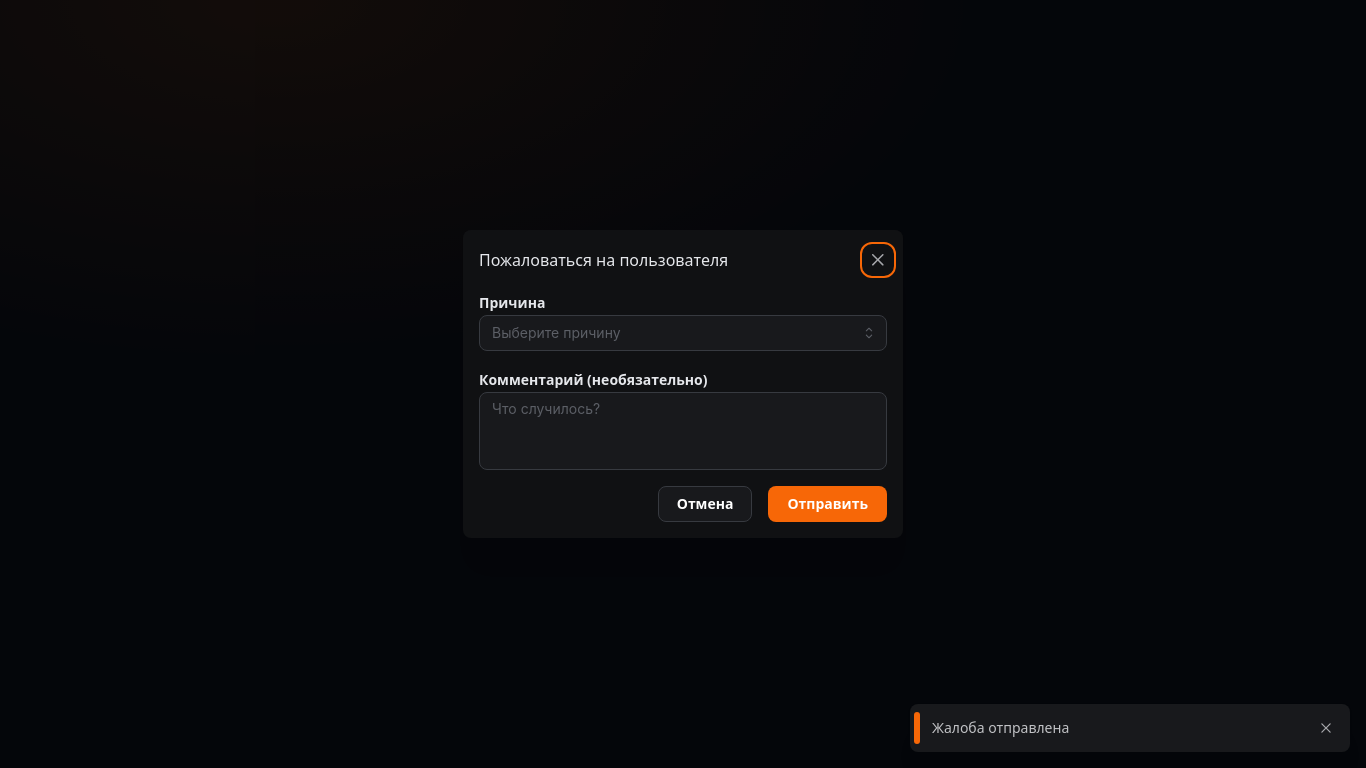
Test case: ReportModal › requires a reason before submitting
Click the button "Отправить".
click(828, 504)  # box left=768, top=486, right=887, bottom=522
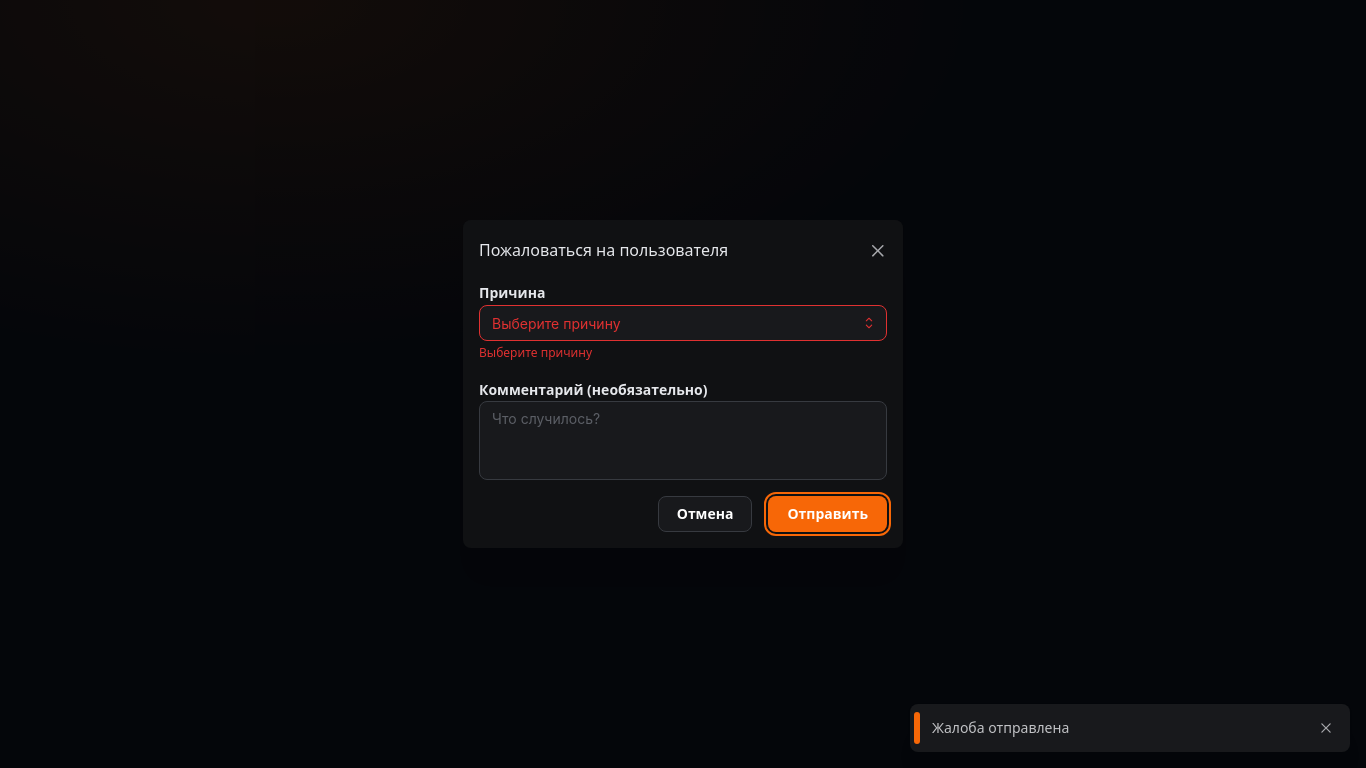
Expected: the text "Выберите причину" is shown, left=479, top=344, right=592, bottom=361
